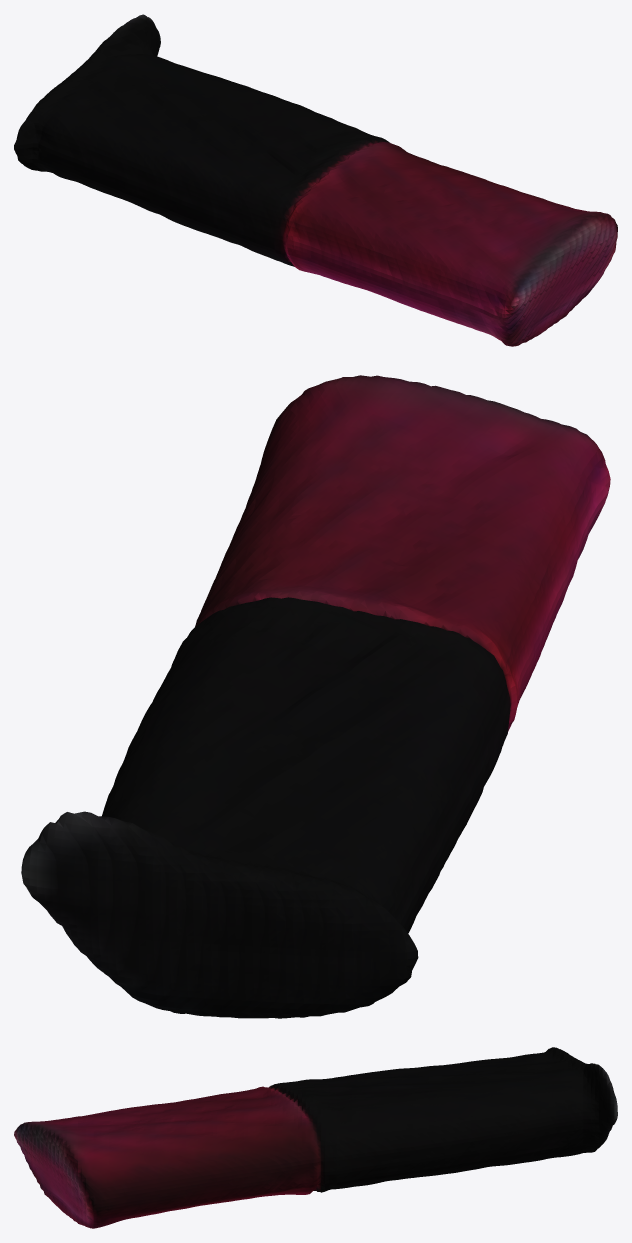
3 renders of one model, top to bottom at view 1: azimuth 30°, elevation 25°; view 2: azimuth 150°, elevation 25°; view 3: azimuth 270°, elevation 25°, orthographic. The views are drawn at different scales.
Size of the model in its own units: 0.6181 by 0.2011 by 1.07.
